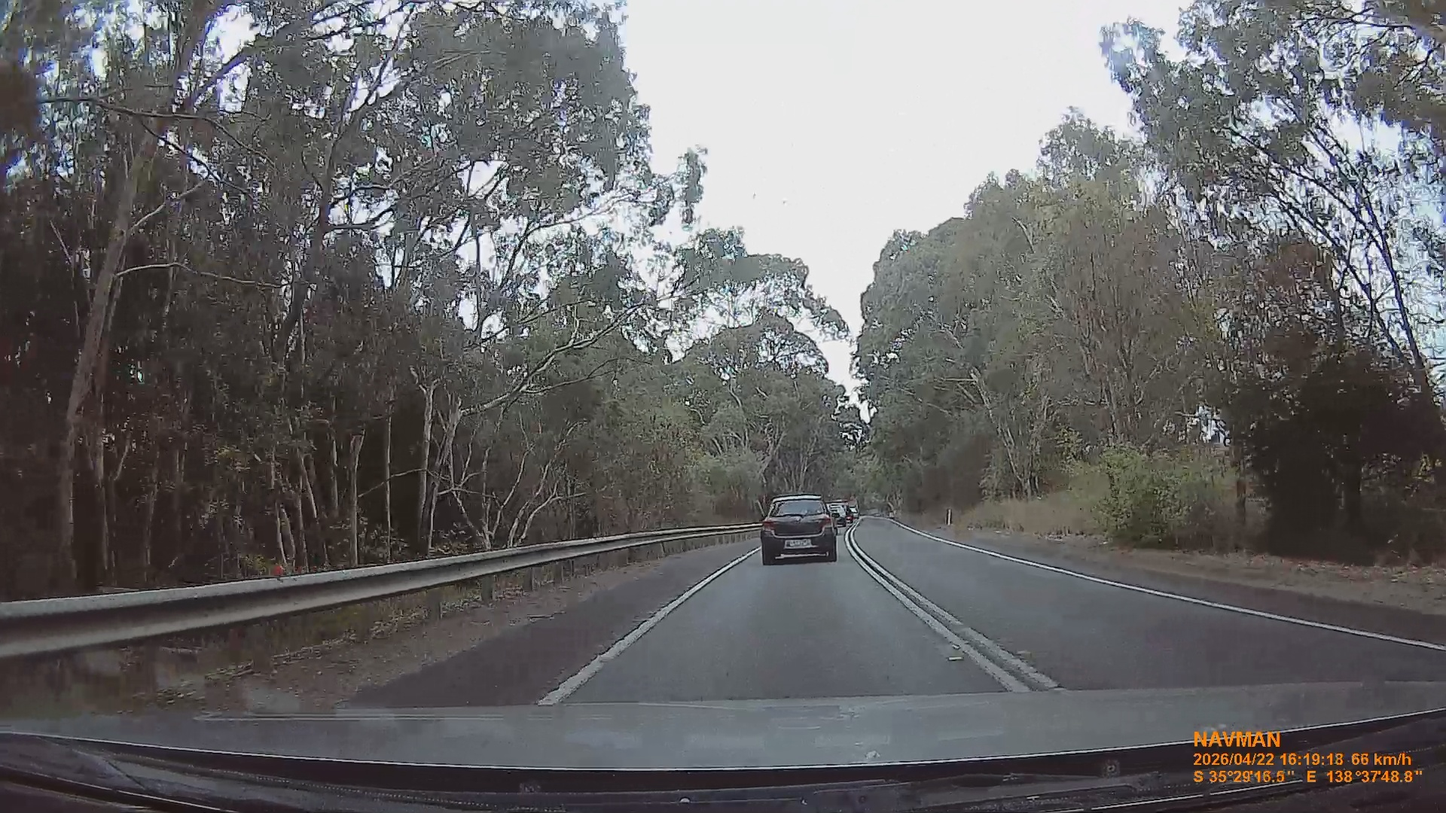road barriers: (3, 524, 747, 662)
